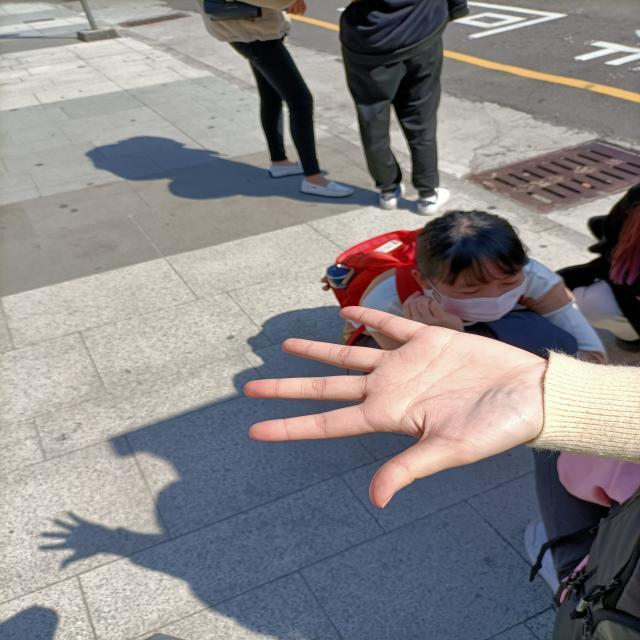hand: (229, 296, 582, 516)
